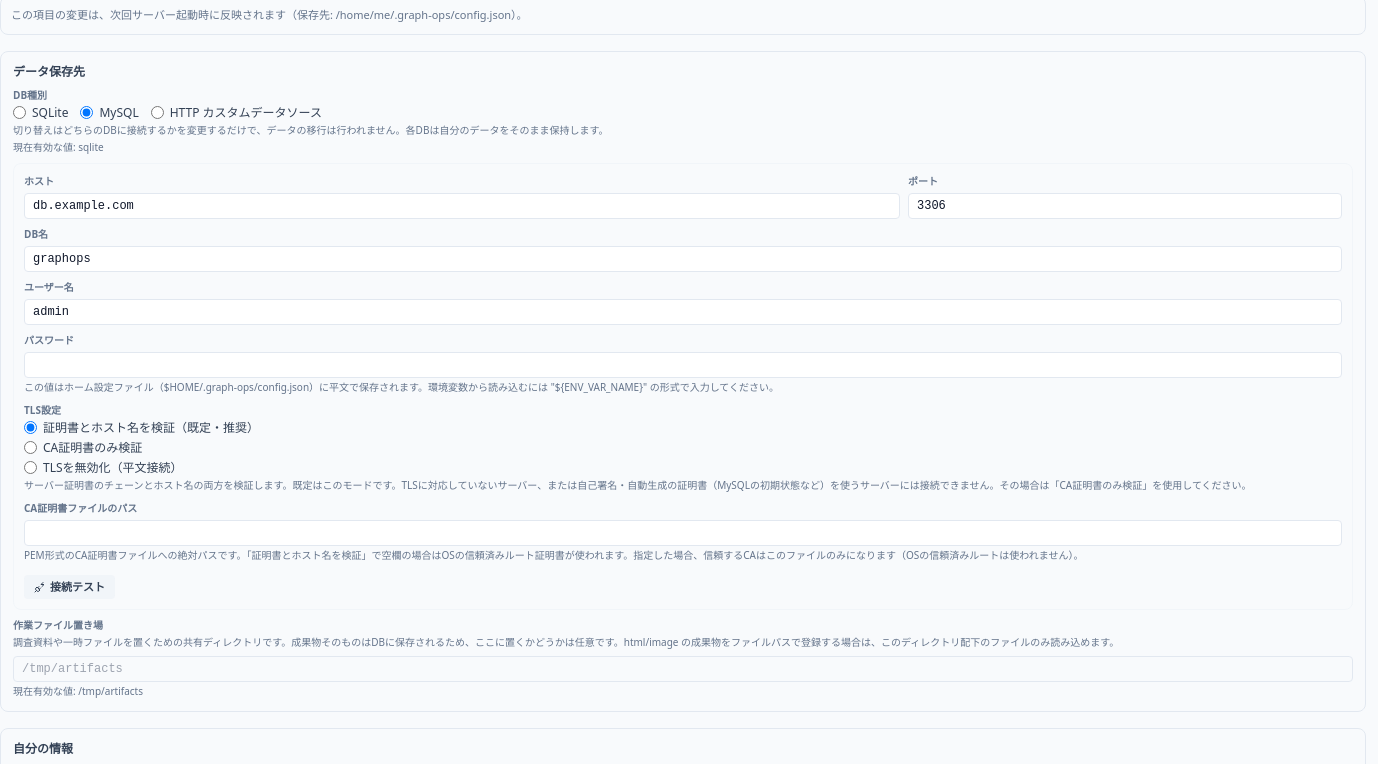
Test: AppSettingsEditor › M-5: retyping the MySQL password in plaintext and saving returns the field to the redacted state
This screenshot has width=1378, height=764.
Type "plaintext-secret" into the password field labelled "パスワード".
click(683, 364); type("plaintext-secret")  # box [24, 352, 1342, 378]
(page scrolled)
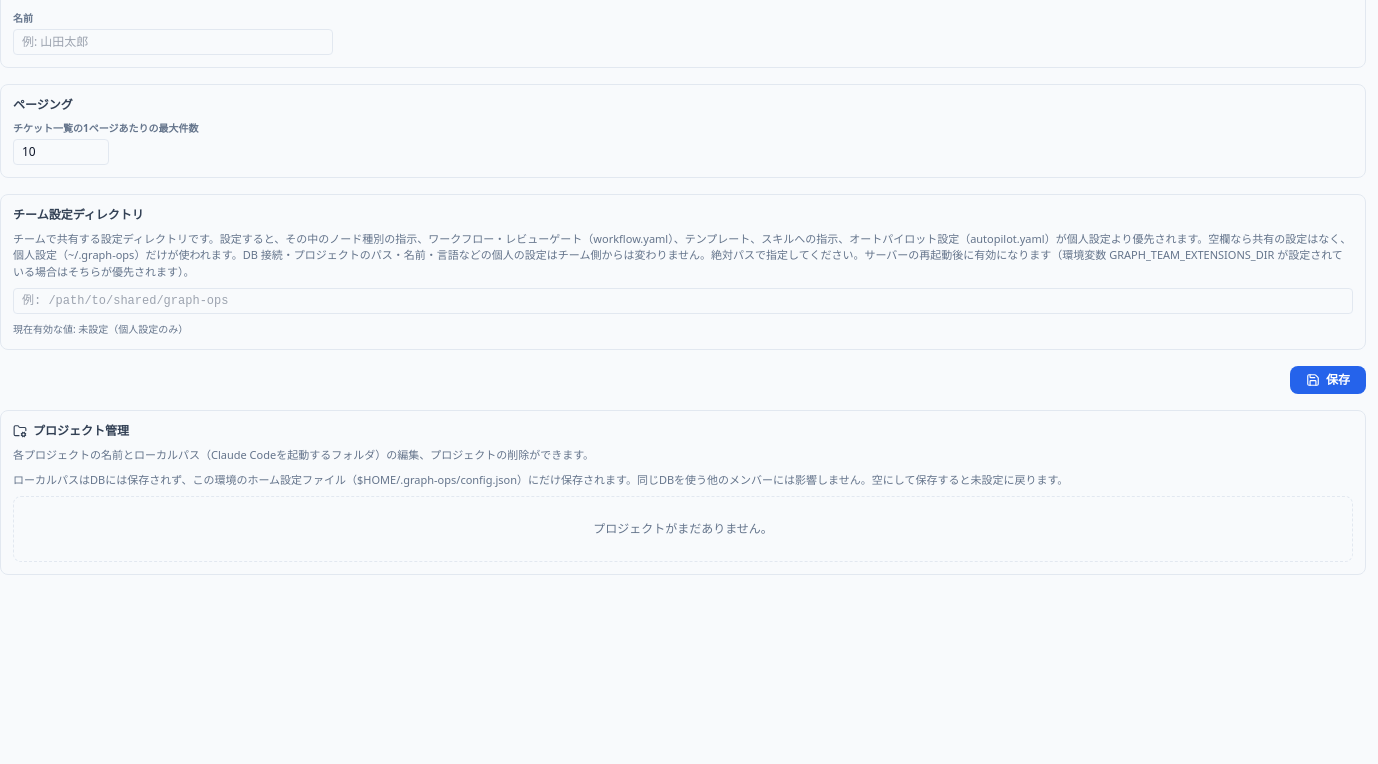
Click the button "保存".
click(1328, 380)  # box [1290, 366, 1366, 394]
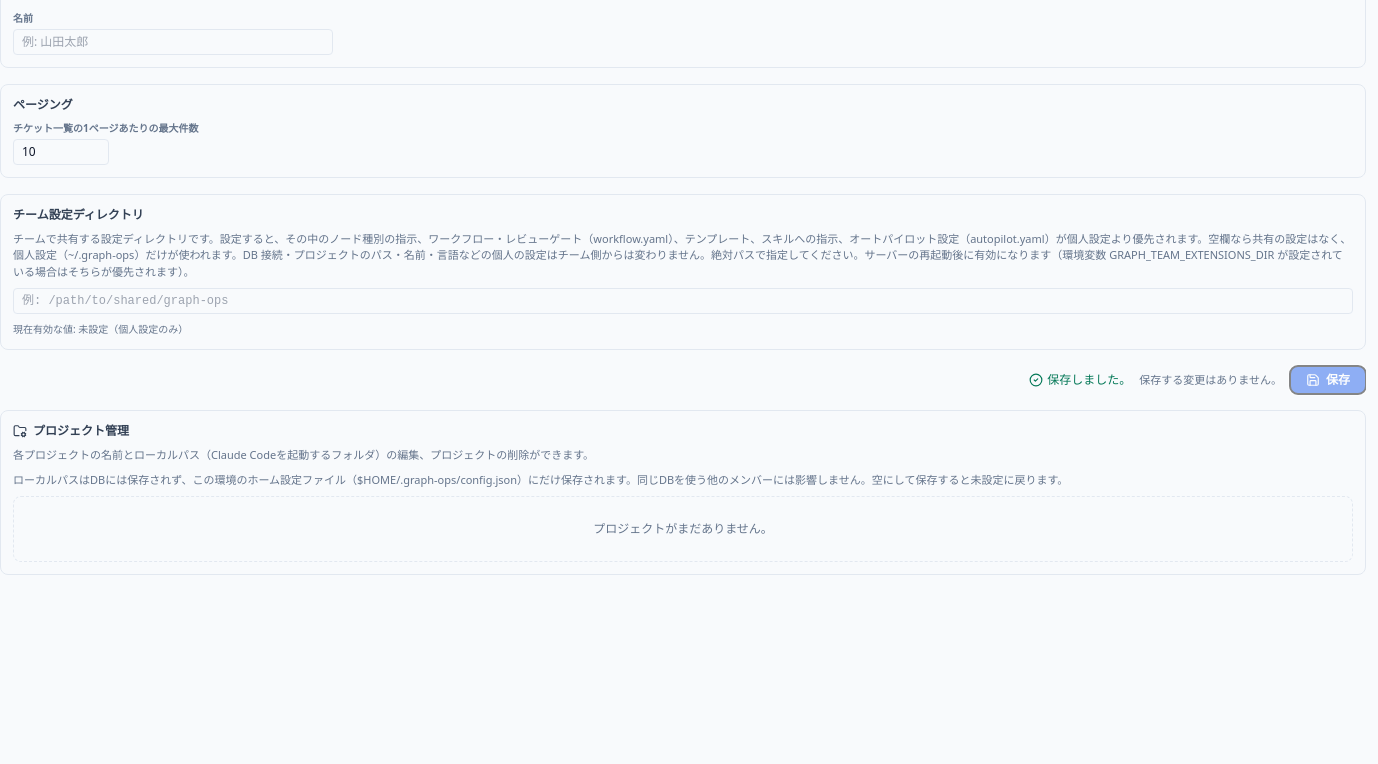
Result: the text "保存する変更はありません。" is shown at [1139, 372, 1282, 388]
